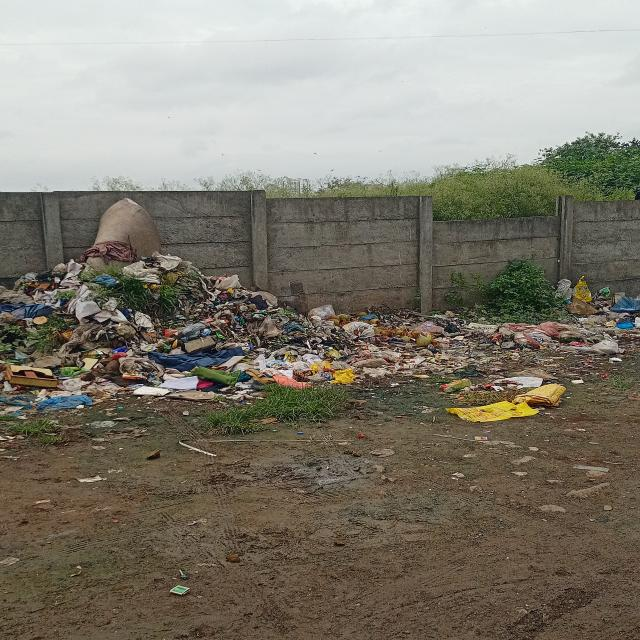garbage: (195, 268, 636, 402), (0, 247, 192, 421)
